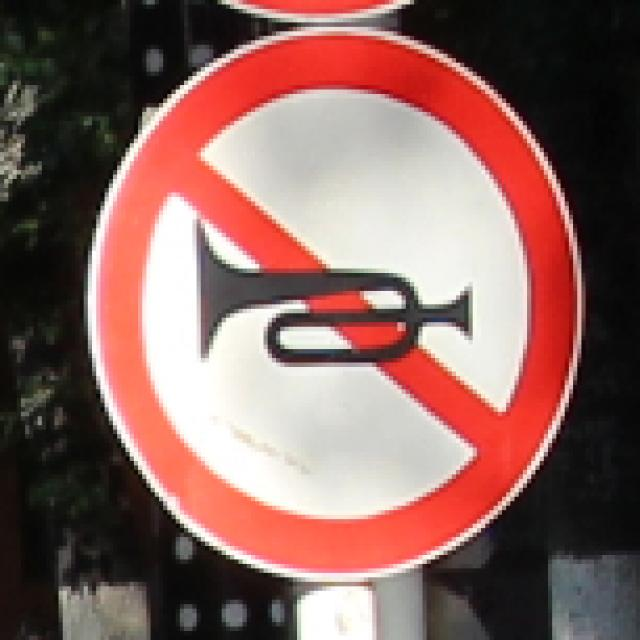No Horn: (94, 20, 591, 584)
